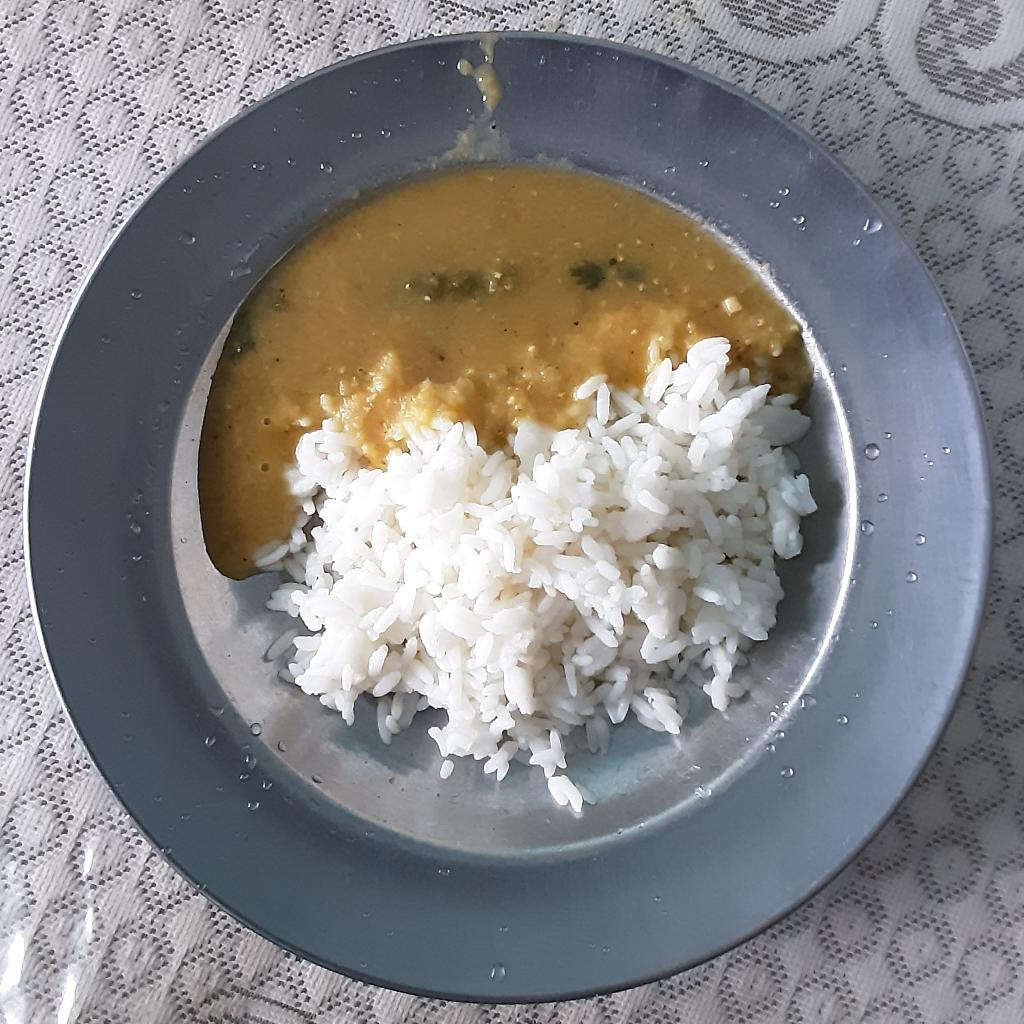daal: (192, 159, 821, 577)
rice: (251, 333, 818, 816)
